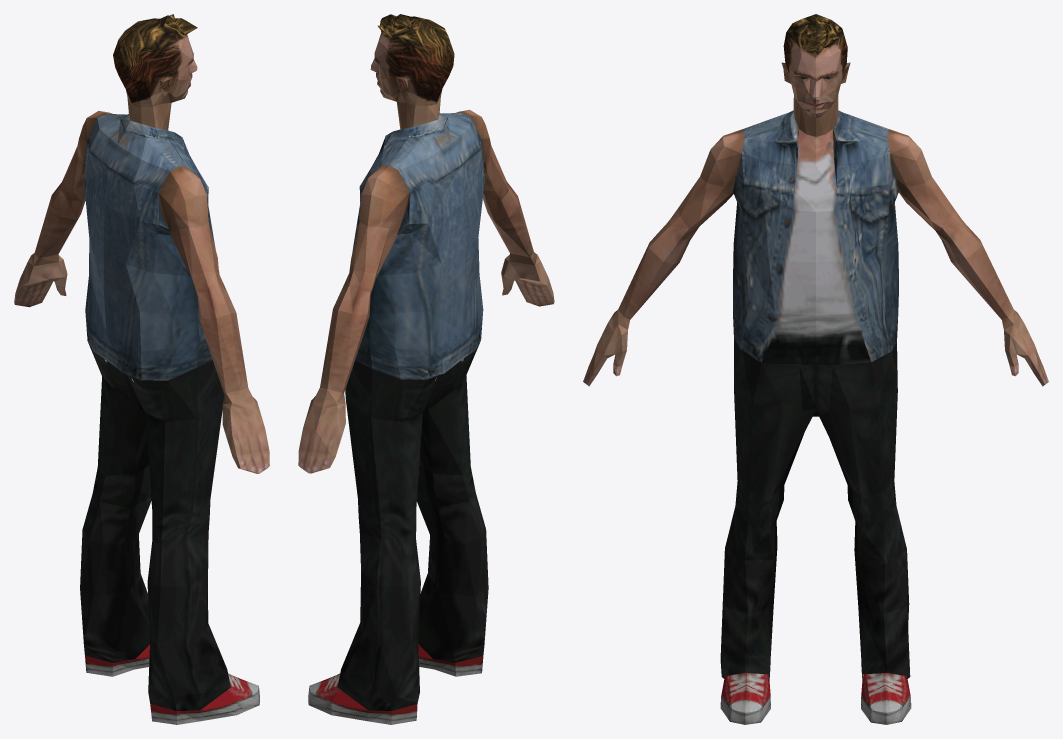
The model's file is paul.obj.
The picture shows the model from 3 angles, left to right: view 1: azimuth 30°, elevation 25°; view 2: azimuth 150°, elevation 25°; view 3: azimuth 270°, elevation 25°; orthographic projection.
Visible parts, largest first — view 1: _Pelvis; view 2: _Pelvis; view 3: _Pelvis.
Boxes of the visible parts, bbox=[...] form: _Pelvis: bbox=[14, 14, 269, 724]; _Pelvis: bbox=[298, 14, 554, 724]; _Pelvis: bbox=[583, 14, 1048, 724].
Bounding box in the file's own units: 0.3515 × 1.86 × 1.17.
Materials: 1 (1 with a texture image).
